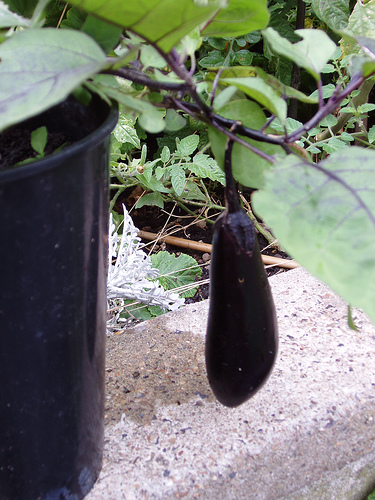eggplant: (195, 192, 284, 409)
